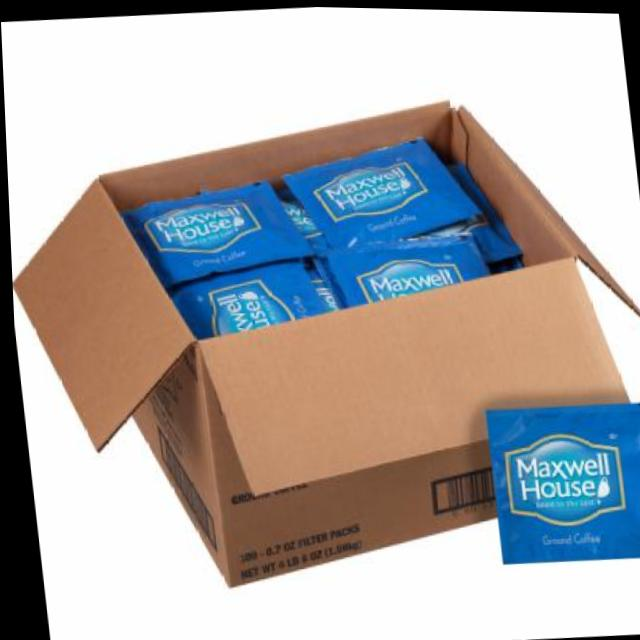box: (2, 69, 640, 614)
